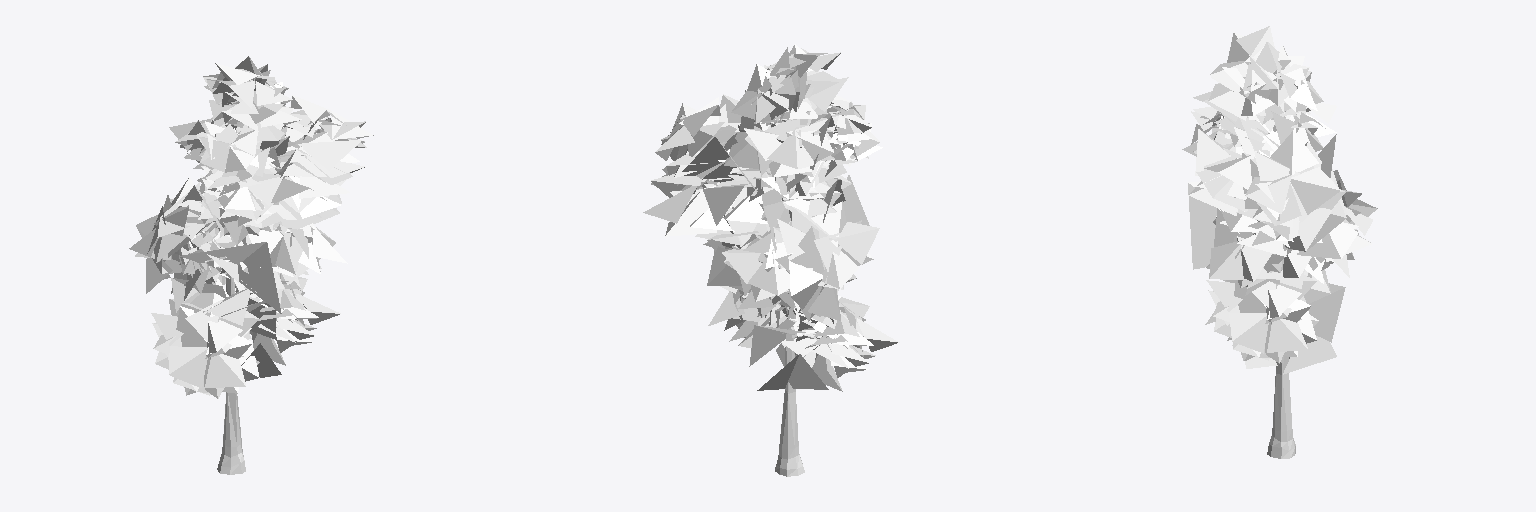
File: fagus.obj
The picture shows the model from 3 angles: view 1: azimuth 30°, elevation 25°; view 2: azimuth 150°, elevation 25°; view 3: azimuth 270°, elevation 25°; orthographic projection.
Visible parts, largest first — view 1: Fagus; view 2: Fagus; view 3: Fagus.
Boxes of the visible parts, x1=… form: Fagus: x1=129, y1=56, x2=373, y2=474; Fagus: x1=643, y1=44, x2=899, y2=476; Fagus: x1=1182, y1=26, x2=1377, y2=458.
Bounding box in the file's own units: 0.5787 × 1.05 × 0.4474.